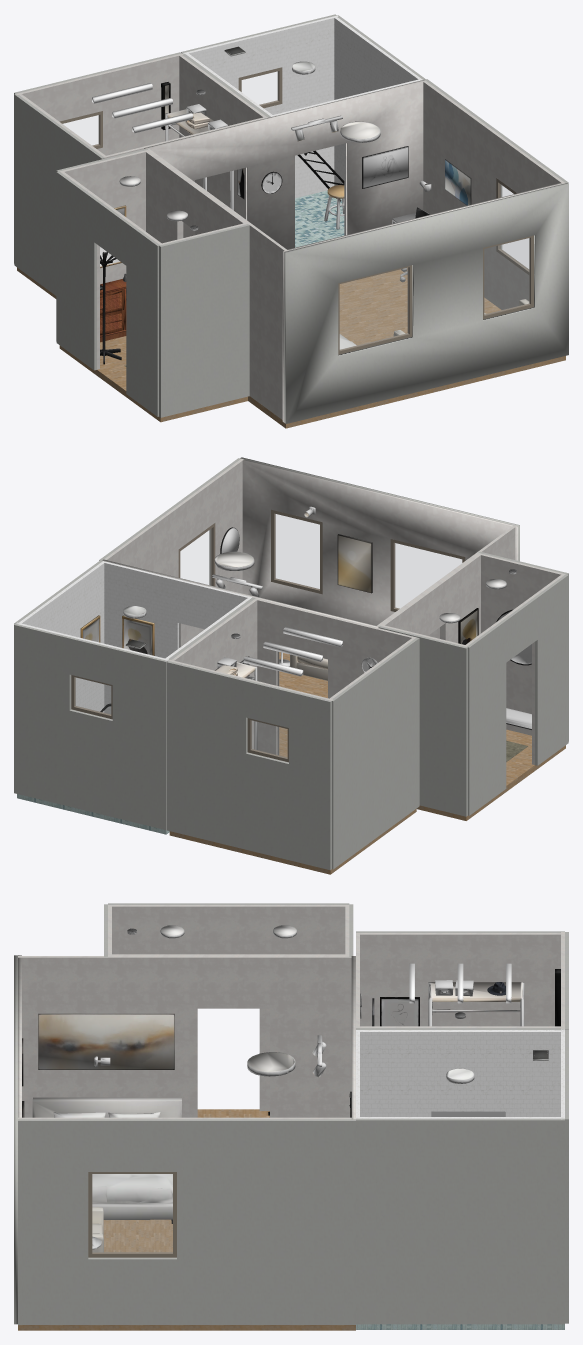
Rendered from scene_named.glb.
3 views of the same model, one above another, from view 1: azimuth 30°, elevation 25°; view 2: azimuth 150°, elevation 25°; view 3: azimuth 270°, elevation 25° (orthographic). The views are drawn at different scales.
Visible parts, largest first — view 1: south_wall_exterior_bedroom/south_wall_exterior_bedroom/geom, north_wall_bedroom/north_wall_bedroom/geometry_0, south_wall_exterior_hallway/south_wall_exterior_hallway/geom, west_wall_exterior_hallway/west_wall_exterior_hallway/geomet, east_wall_bedroom/east_wall_bedroom/geometry_0, north_wall_bathroom/north_wall_bathroom/geometry_0, west_wall_exterior_closet/west_wall_exterior_closet/geometry, north_wall_closet/north_wall_closet/geometry_0, west_wall_bedroom/west_wall_bedroom/geometry_0, floor_bedroom, window_1_bedroom/window_1_bedroom/glass, east_wall_hallway/east_wall_hallway/geometry_0 (+23 smaller); view 2: north_wall_exterior_closet/north_wall_exterior_closet/geomet, north_wall_exterior_bathroom/north_wall_exterior_bathroom/ge, south_wall_bedroom/south_wall_bedroom/geometry_0, west_wall_exterior_closet/west_wall_exterior_closet/geometry, west_wall_exterior_hallway/west_wall_exterior_hallway/geomet, north_wall_exterior_hallway/north_wall_exterior_hallway/geom, south_wall_closet/south_wall_closet/geometry_0, south_wall_bathroom/south_wall_bathroom/geometry_0, east_wall_bedroom/east_wall_bedroom/geometry_0, south_wall_hallway/south_wall_hallway/geometry_0, east_wall_bathroom/east_wall_bathroom/geometry_0, east_wall_hallway/east_wall_hallway/geometry_0 (+23 smaller); view 3: east_wall_exterior_bedroom/east_wall_exterior_bedroom/geomet, east_wall_exterior_bathroom/east_wall_exterior_bathroom/geom, west_wall_bedroom/west_wall_bedroom/geometry_0, west_wall_bathroom/west_wall_bathroom/geometry_0, west_wall_closet/west_wall_closet/geometry_0, west_wall_hallway/west_wall_hallway/geometry_0, canvas_print_0.001, bed_0, window_2_bedroom/window_2_bedroom/glass, floor_bedroom, wardrobe_0, south_wall_exterior_bedroom/south_wall_exterior_bedroom/geom (+9 smaller).
Boxes of the visible parts, x1,y1,x2,y2 form: south_wall_exterior_bedroom/south_wall_exterior_bedroom/geom: (284, 183, 568, 423); north_wall_bedroom/north_wall_bedroom/geometry_0: (145, 79, 425, 249); south_wall_exterior_hallway/south_wall_exterior_hallway/geom: (159, 224, 249, 417); west_wall_exterior_hallway/west_wall_exterior_hallway/geomet: (56, 171, 159, 416); east_wall_bedroom/east_wall_bedroom/geometry_0: (423, 81, 565, 309); north_wall_bathroom/north_wall_bathroom/geometry_0: (183, 15, 338, 198); west_wall_exterior_closet/west_wall_exterior_closet/geometry: (14, 94, 104, 295); north_wall_closet/north_wall_closet/geometry_0: (16, 53, 182, 155); west_wall_bedroom/west_wall_bedroom/geometry_0: (144, 148, 288, 419); floor_bedroom: (248, 267, 565, 428); window_1_bedroom/window_1_bedroom/glass: (340, 268, 408, 349); east_wall_hallway/east_wall_hallway/geometry_0: (144, 150, 247, 243); north_wall_exterior_closet/north_wall_exterior_closet/geomet: (166, 661, 331, 870); north_wall_exterior_bathroom/north_wall_exterior_bathroom/ge: (14, 623, 167, 829); south_wall_bedroom/south_wall_bedroom/geometry_0: (242, 459, 518, 638); west_wall_exterior_closet/west_wall_exterior_closet/geometry: (332, 637, 419, 869); west_wall_exterior_hallway/west_wall_exterior_hallway/geomet: (467, 574, 568, 815); north_wall_exterior_hallway/north_wall_exterior_hallway/geom: (378, 626, 467, 816); south_wall_closet/south_wall_closet/geometry_0: (254, 598, 416, 754); south_wall_bathroom/south_wall_bathroom/geometry_0: (102, 561, 251, 714); east_wall_bedroom/east_wall_bedroom/geometry_0: (104, 459, 243, 646); south_wall_hallway/south_wall_hallway/geometry_0: (477, 553, 562, 735); east_wall_bathroom/east_wall_bathroom/geometry_0: (17, 562, 104, 712); east_wall_hallway/east_wall_hallway/geometry_0: (381, 553, 481, 643); east_wall_exterior_bedroom/east_wall_exterior_bedroom/geomet: (18, 1119, 355, 1324); east_wall_exterior_bathroom/east_wall_exterior_bathroom/geom: (356, 1118, 564, 1324); west_wall_bedroom/west_wall_bedroom/geometry_0: (18, 956, 351, 1117); west_wall_bathroom/west_wall_bathroom/geometry_0: (356, 1030, 564, 1116); west_wall_closet/west_wall_closet/geometry_0: (360, 933, 560, 1026); west_wall_hallway/west_wall_hallway/geometry_0: (108, 905, 349, 1110); canvas_print_0.001: (38, 1013, 174, 1069); bed_0: (32, 1097, 181, 1223); window_2_bedroom/window_2_bedroom/glass: (92, 1174, 172, 1252); floor_bedroom: (18, 1219, 355, 1330); wardrobe_0: (428, 982, 524, 1026); south_wall_exterior_bedroom/south_wall_exterior_bedroom/geom: (14, 955, 17, 1324).
Size of the model in its own units: 6.4 by 2.9 by 6.9.
Materials: 94 (78 with a texture image).
